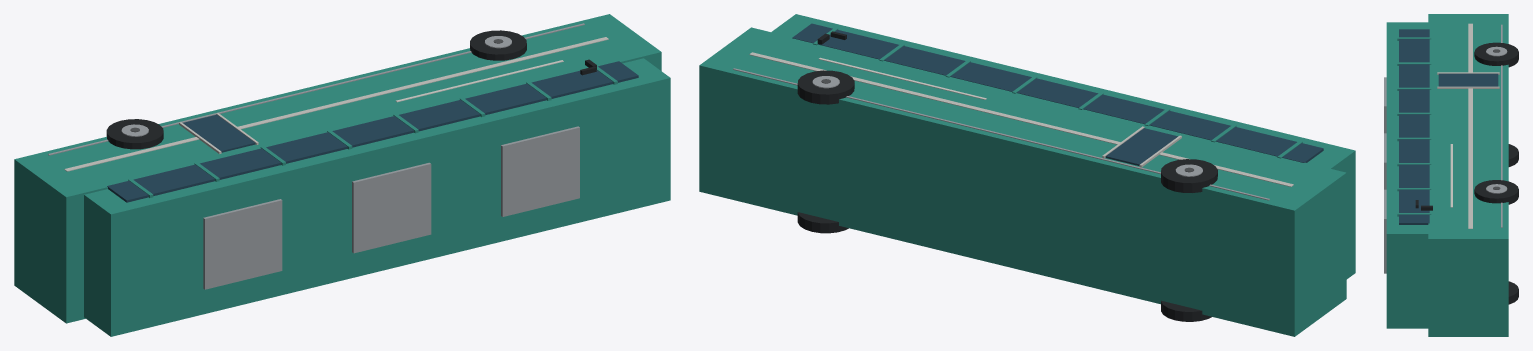
The model's file is RM_Bus_05.glb.
The picture shows the model from 3 angles, left to right: view 1: azimuth 30°, elevation 25°; view 2: azimuth 150°, elevation 25°; view 3: azimuth 270°, elevation 25°; orthographic projection. The views are drawn at different scales.
Parts seen in each view (by area): view 1: part_001, part_000, part_002, part_038, part_037, part_039, part_013, part_040, part_024, part_030, part_014; view 2: part_000, part_002, part_001, part_013, part_040, part_030, part_024, part_014, part_027, part_021; view 3: part_000, part_001, part_002, part_013, part_040, part_030, part_024, part_014, part_039, part_027, part_021, part_043 (+6 smaller).
Part boxes in pixels (<box>): part_001: <box>84,58,670,336</box>; part_000: <box>14,14,661,323</box>; part_002: <box>107,61,638,202</box>; part_038: <box>352,162,431,253</box>; part_037: <box>203,199,282,289</box>; part_039: <box>501,126,579,216</box>; part_013: <box>64,37,608,171</box>; part_040: <box>183,114,255,152</box>; part_024: <box>106,119,163,149</box>; part_030: <box>470,30,526,60</box>; part_014: <box>48,23,584,155</box>; part_000: <box>699,27,1346,336</box>; part_002: <box>792,23,1323,162</box>; part_001: <box>771,14,1355,279</box>; part_013: <box>749,52,1293,186</box>; part_040: <box>1105,128,1177,165</box>; part_030: <box>797,70,854,104</box>; part_024: <box>1161,159,1217,192</box>; part_014: <box>733,68,1269,200</box>; part_027: <box>797,212,848,233</box>; part_021: <box>1161,300,1211,321</box>; part_000: <box>1428,14,1508,336</box>; part_001: <box>1386,22,1428,328</box>; part_002: <box>1399,29,1429,224</box>; part_013: <box>1468,23,1472,228</box>; part_040: <box>1438,73,1498,86</box>; part_030: <box>1474,180,1518,204</box>; part_024: <box>1474,42,1518,67</box>; part_014: <box>1501,24,1502,227</box>; part_039: <box>1384,189,1386,273</box>; part_027: <box>1508,281,1518,304</box>; part_021: <box>1508,144,1518,166</box>; part_043: <box>1450,144,1452,207</box>.
Bounding box in the file's own units: 12.48 × 2.85 × 3.16.
